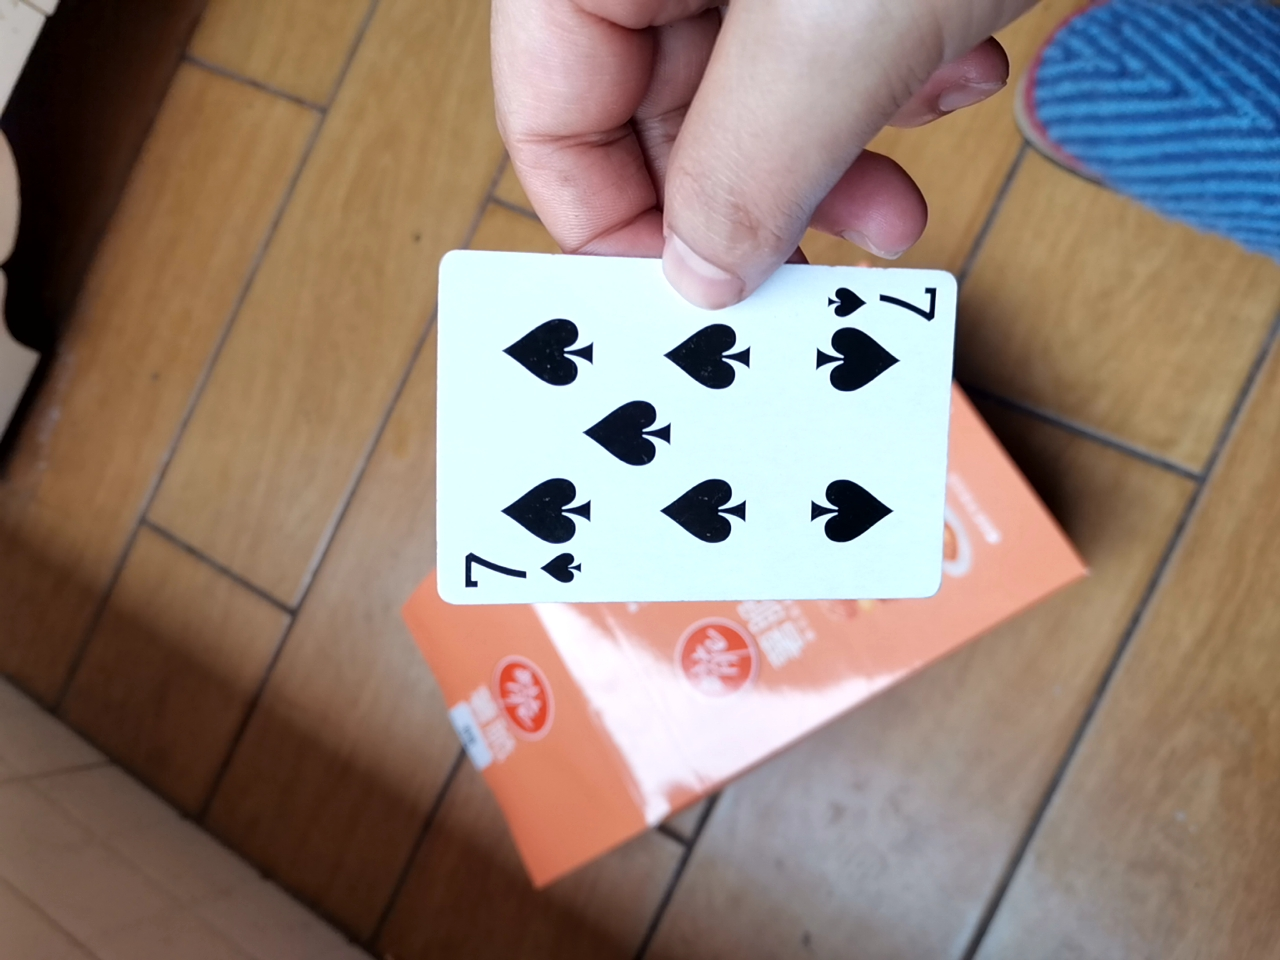ht 7: (412, 257, 973, 614)
